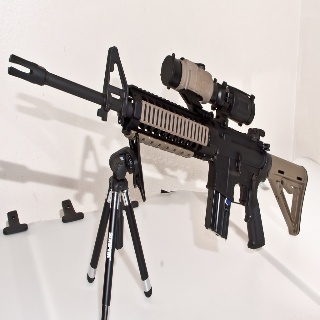rifle: (5, 49, 308, 320)
